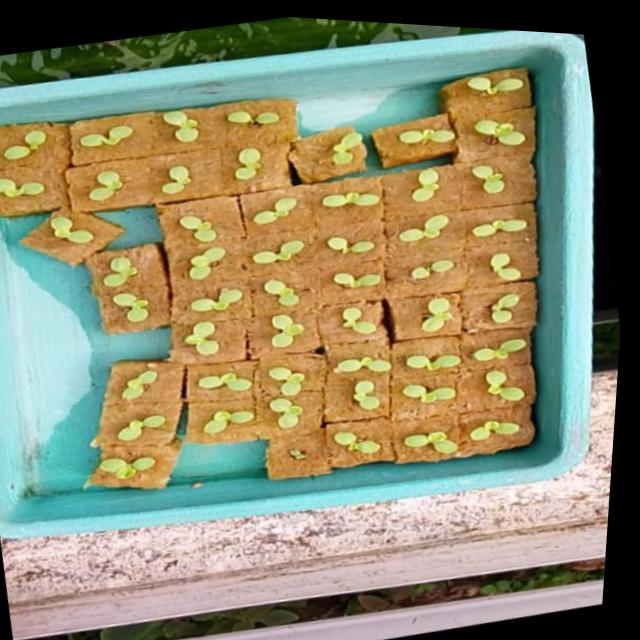Baby: (64, 217, 125, 257), (8, 131, 75, 167), (477, 163, 544, 194), (223, 371, 279, 404), (191, 250, 247, 283), (88, 129, 151, 157), (426, 262, 491, 289), (210, 287, 263, 318), (363, 306, 411, 340), (28, 169, 85, 197), (523, 296, 567, 332), (503, 341, 566, 365), (424, 216, 476, 244), (119, 255, 157, 292), (122, 462, 180, 485), (141, 419, 190, 446), (438, 438, 493, 461), (276, 243, 328, 267), (209, 325, 245, 359), (452, 300, 486, 336), (521, 375, 560, 406), (364, 437, 413, 461), (200, 215, 238, 245), (504, 426, 555, 448), (298, 317, 331, 351), (182, 114, 218, 145), (296, 371, 333, 401), (297, 401, 331, 433), (349, 237, 403, 257), (111, 174, 145, 205), (146, 374, 181, 404), (362, 361, 423, 378), (287, 282, 324, 310), (230, 420, 279, 441), (500, 220, 557, 238), (437, 358, 494, 375), (437, 170, 466, 203), (519, 255, 552, 282), (383, 385, 411, 416), (134, 304, 170, 328), (256, 150, 283, 182), (285, 200, 317, 225), (358, 275, 407, 291), (183, 169, 211, 197), (445, 392, 488, 408)
